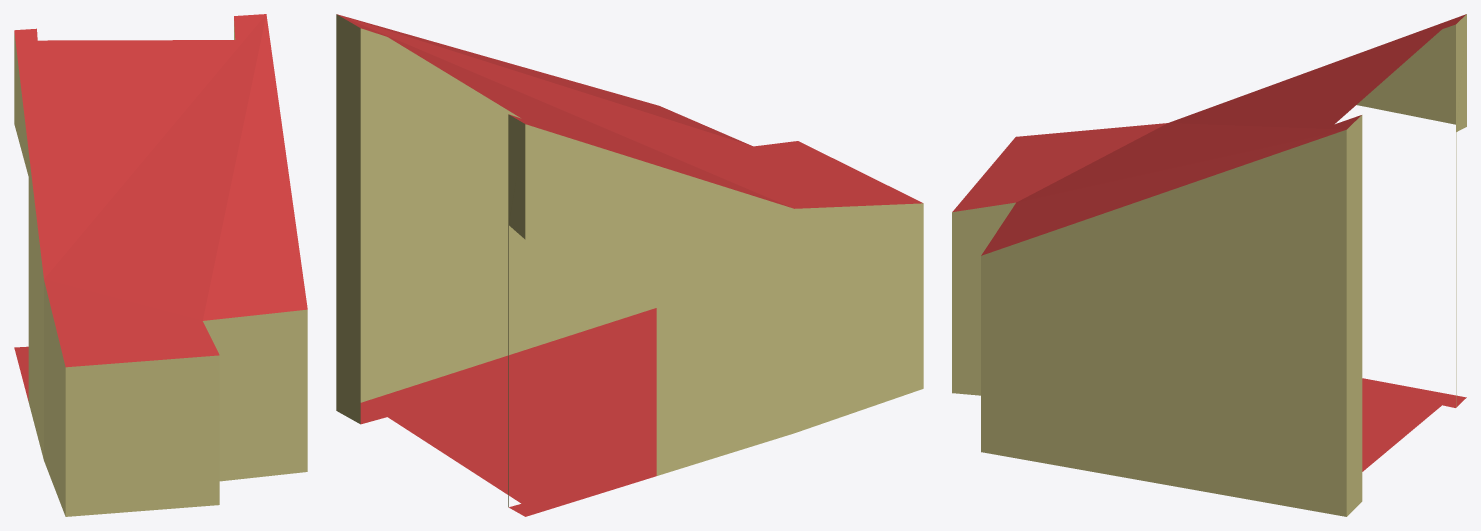
The picture shows the model from 3 angles, left to right: view 1: azimuth 30°, elevation 25°; view 2: azimuth 150°, elevation 25°; view 3: azimuth 270°, elevation 25°; orthographic projection. The views are drawn at different scales.
Size of the model in its own units: 12.09 by 13.21 by 10.96.
